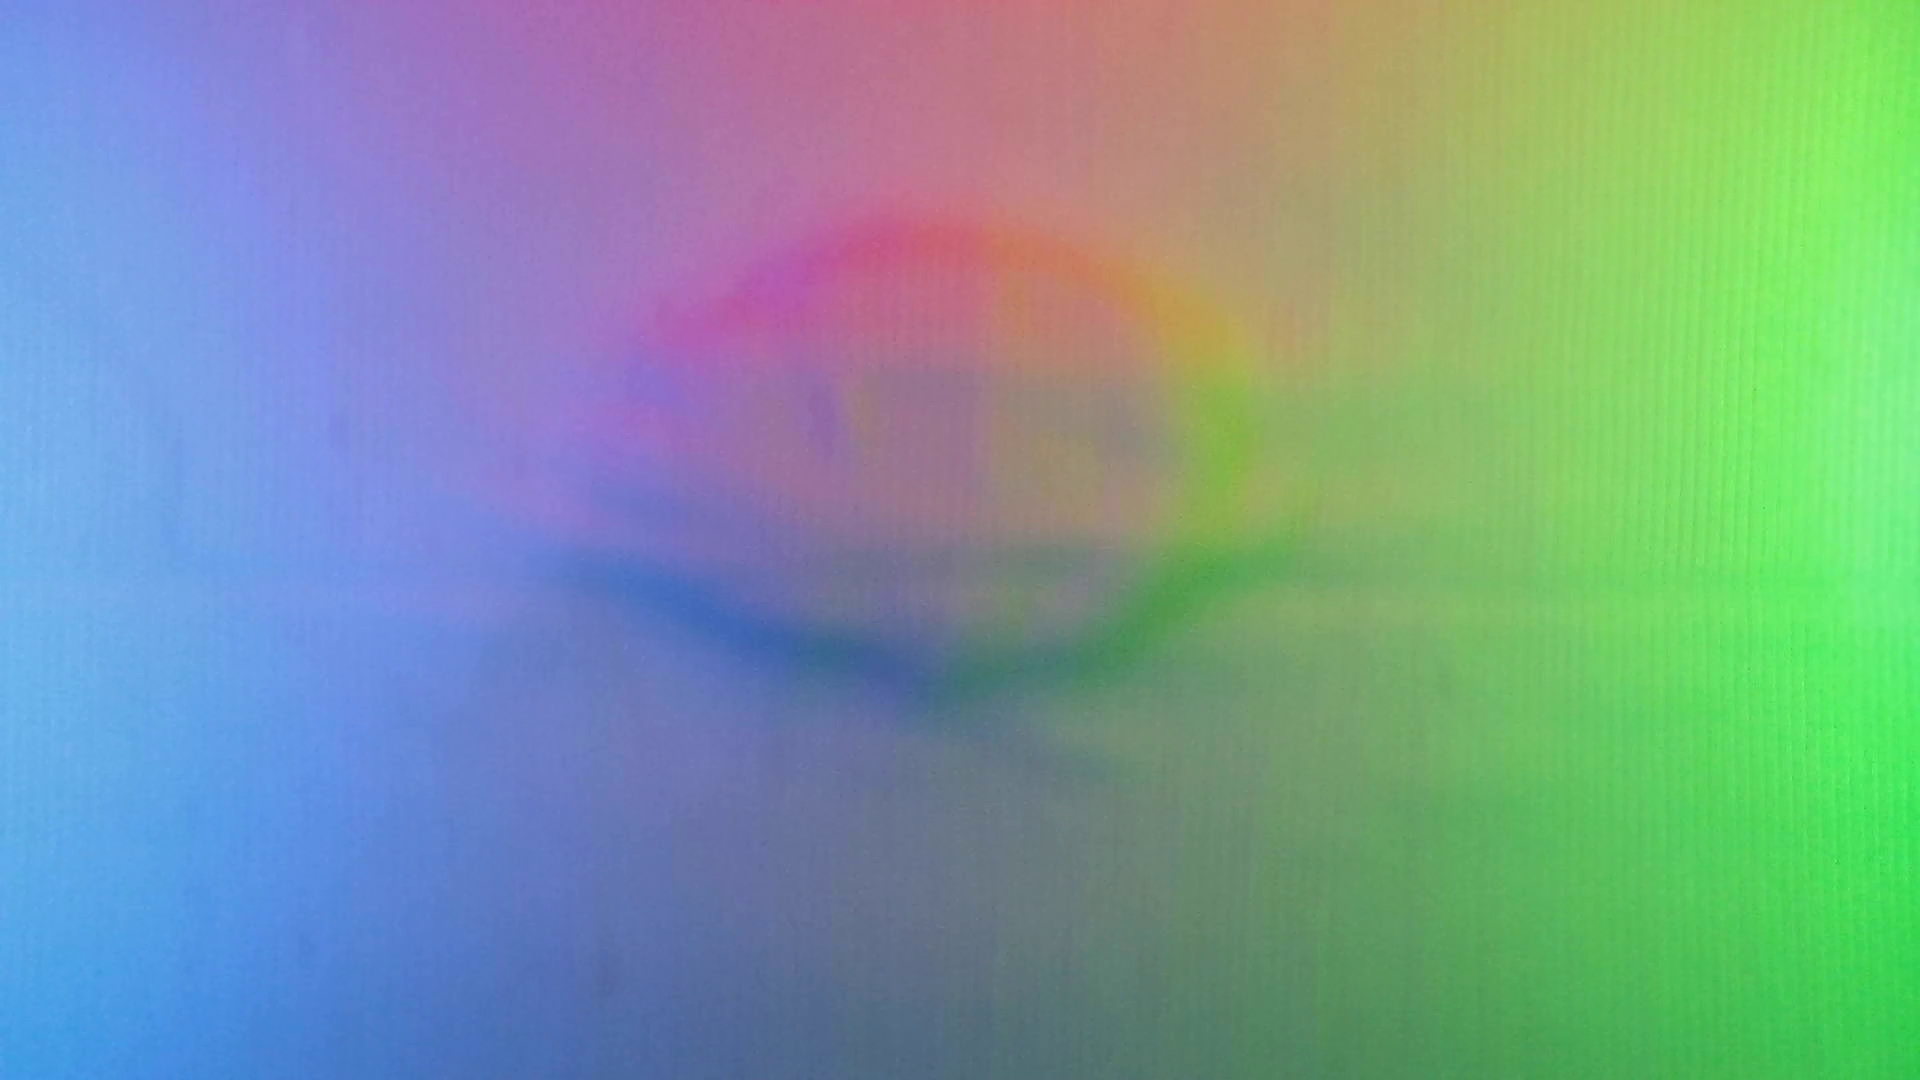D1: (625, 229, 1236, 665)
